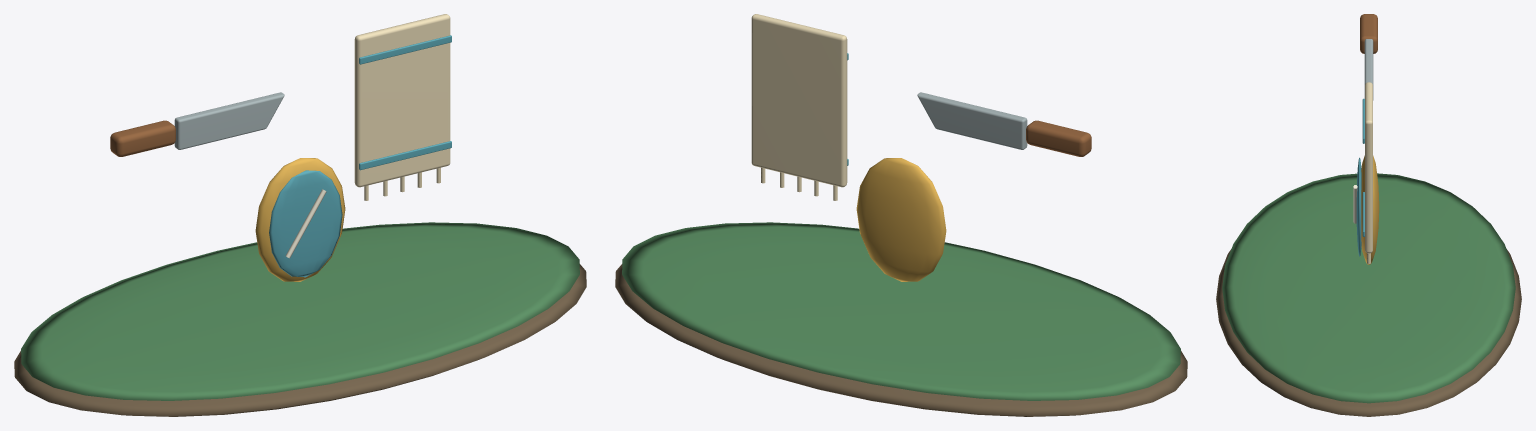
Rendered from complete-second-blade-cloth-handsome.glb.
3 renders of one model, left to right at view 1: azimuth 30°, elevation 25°; view 2: azimuth 150°, elevation 25°; view 3: azimuth 270°, elevation 25°, orthographic. The views are drawn at different scales.
Visible parts, largest first — view 1: complete-second-blade-cloth-handsome_surface_01, complete-second-blade-cloth-handsome_surface_04, complete-second-blade-cloth-handsome_surface_00, complete-second-blade-cloth-handsome_surface_05, complete-second-blade-cloth-handsome_surface_03, complete-second-blade-cloth-handsome_surface_06, complete-second-blade-cloth-handsome_surface_02; view 2: complete-second-blade-cloth-handsome_surface_01, complete-second-blade-cloth-handsome_surface_04, complete-second-blade-cloth-handsome_surface_00, complete-second-blade-cloth-handsome_surface_06, complete-second-blade-cloth-handsome_surface_03, complete-second-blade-cloth-handsome_surface_02; view 3: complete-second-blade-cloth-handsome_surface_01, complete-second-blade-cloth-handsome_surface_00, complete-second-blade-cloth-handsome_surface_04, complete-second-blade-cloth-handsome_surface_06, complete-second-blade-cloth-handsome_surface_05, complete-second-blade-cloth-handsome_surface_02, complete-second-blade-cloth-handsome_surface_03.
Boxes of the visible parts, x1=… form: complete-second-blade-cloth-handsome_surface_01: x1=21, y1=222, x2=579, y2=400; complete-second-blade-cloth-handsome_surface_04: x1=354, y1=14, x2=450, y2=200; complete-second-blade-cloth-handsome_surface_00: x1=14, y1=264, x2=586, y2=416; complete-second-blade-cloth-handsome_surface_05: x1=269, y1=35, x2=451, y2=277; complete-second-blade-cloth-handsome_surface_03: x1=174, y1=92, x2=284, y2=149; complete-second-blade-cloth-handsome_surface_06: x1=255, y1=158, x2=345, y2=281; complete-second-blade-cloth-handsome_surface_02: x1=110, y1=120, x2=175, y2=156; complete-second-blade-cloth-handsome_surface_01: x1=622, y1=222, x2=1180, y2=400; complete-second-blade-cloth-handsome_surface_04: x1=751, y1=14, x2=847, y2=200; complete-second-blade-cloth-handsome_surface_00: x1=615, y1=264, x2=1187, y2=416; complete-second-blade-cloth-handsome_surface_06: x1=856, y1=158, x2=946, y2=281; complete-second-blade-cloth-handsome_surface_03: x1=917, y1=92, x2=1027, y2=149; complete-second-blade-cloth-handsome_surface_02: x1=1026, y1=120, x2=1091, y2=156; complete-second-blade-cloth-handsome_surface_01: x1=1222, y1=173, x2=1515, y2=403; complete-second-blade-cloth-handsome_surface_00: x1=1216, y1=249, x2=1521, y2=416; complete-second-blade-cloth-handsome_surface_04: x1=1365, y1=82, x2=1372, y2=263; complete-second-blade-cloth-handsome_surface_06: x1=1361, y1=155, x2=1379, y2=264; complete-second-blade-cloth-handsome_surface_05: x1=1356, y1=98, x2=1364, y2=256; complete-second-blade-cloth-handsome_surface_02: x1=1360, y1=14, x2=1377, y2=53; complete-second-blade-cloth-handsome_surface_03: x1=1364, y1=39, x2=1373, y2=100.
Size of the model in its own units: 4.56 by 2.31 by 2.5.
